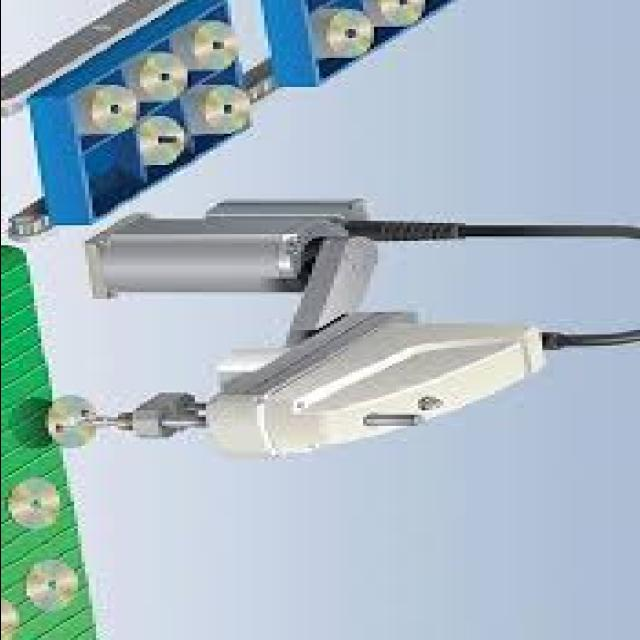Robotic-arm: (39, 196, 559, 463)
